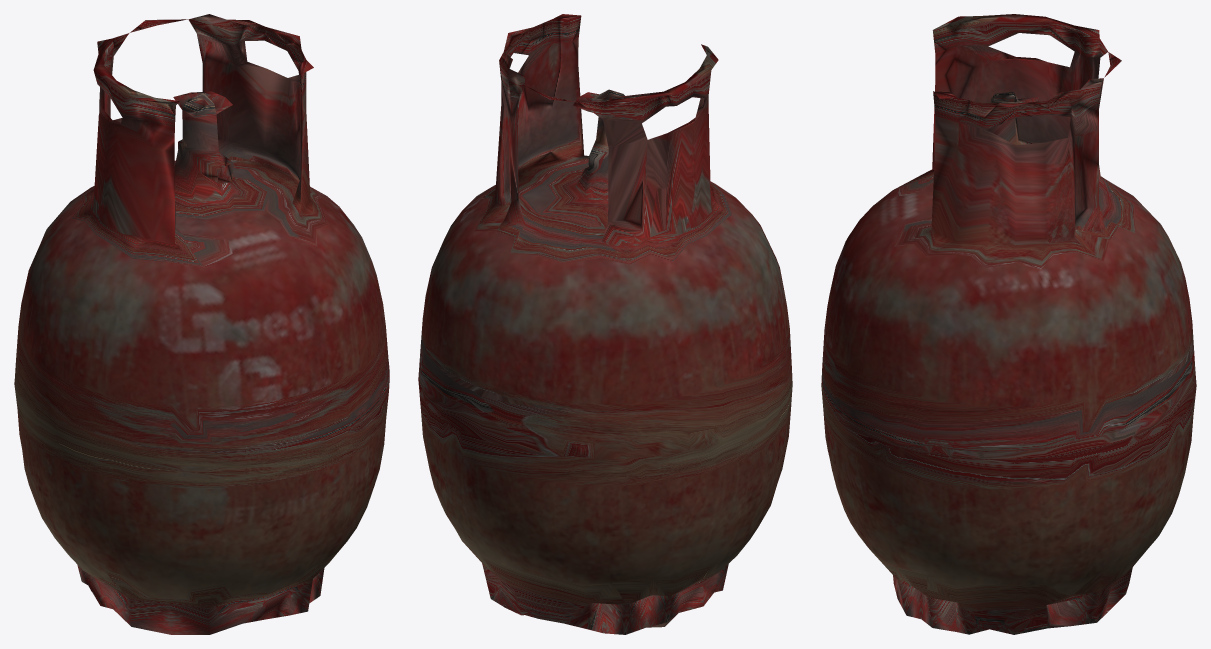
Rendered from small_lpg_tank.glb.
The picture shows the model from 3 angles, left to right: view 1: azimuth 30°, elevation 25°; view 2: azimuth 150°, elevation 25°; view 3: azimuth 270°, elevation 25°; orthographic projection.
Parts seen in each view (by area): view 1: small_lpg_tank; view 2: small_lpg_tank; view 3: small_lpg_tank.
Part boxes in pixels (left/top/right/bottom): small_lpg_tank: left=14, top=14, right=389, bottom=634; small_lpg_tank: left=418, top=14, right=792, bottom=634; small_lpg_tank: left=821, top=14, right=1196, bottom=634.
Size of the model in its own units: 0.4048 by 0.6317 by 0.4039.
Materials: 1 (1 with a texture image).
